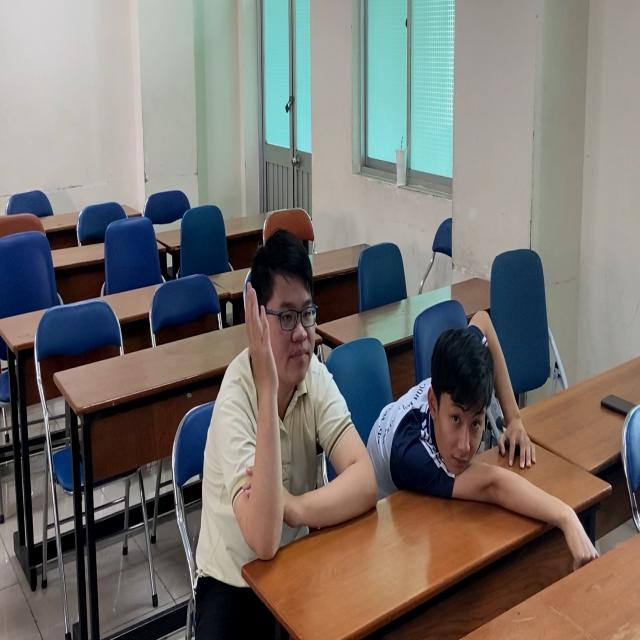raise_hand: (193, 225, 386, 561)
